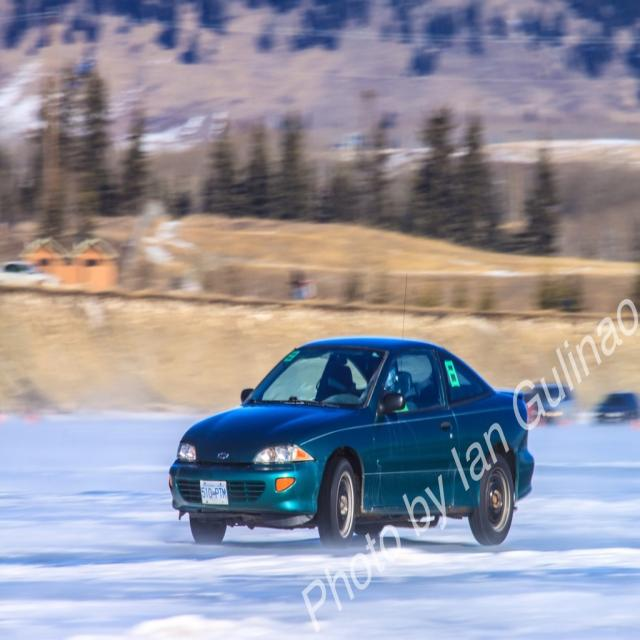car: (166, 339, 557, 556)
